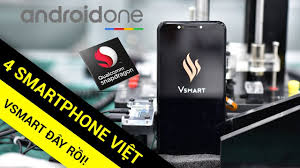vsmart: (154, 19, 227, 156)
